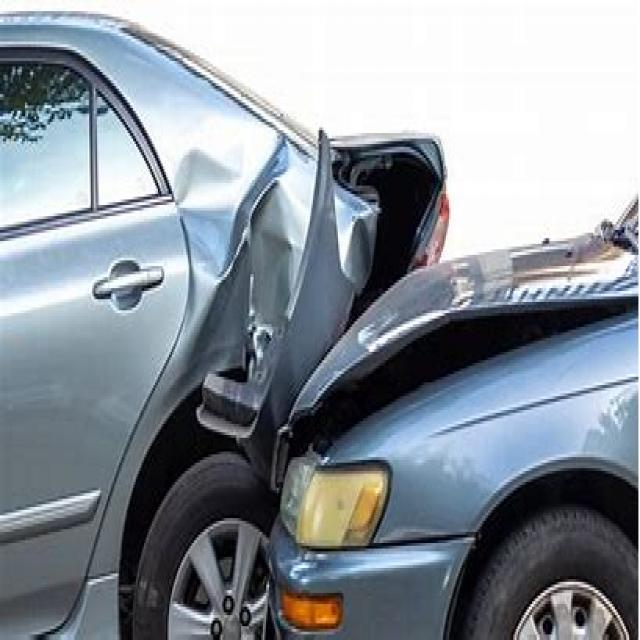Accident: (194, 98, 487, 640)
